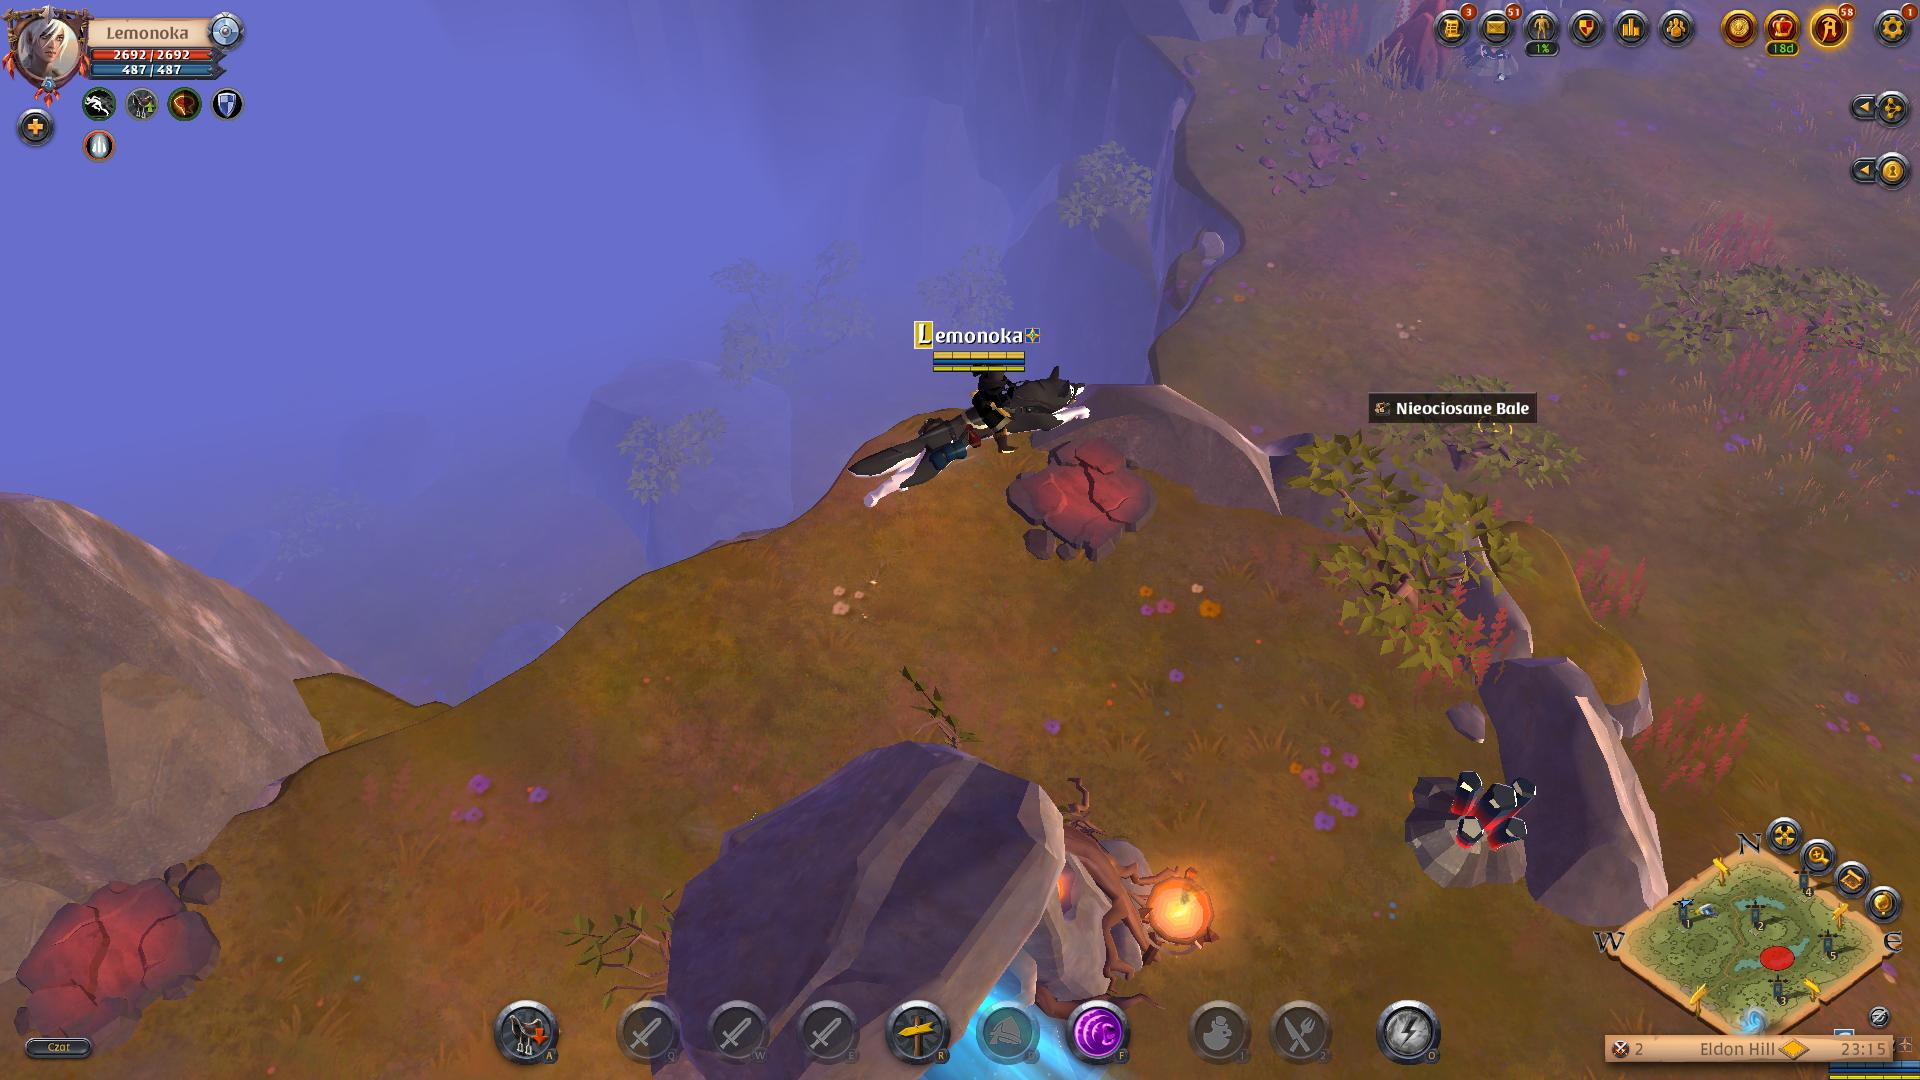ore tier 5: (1410, 765, 1545, 897)
